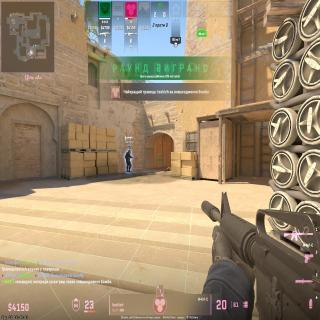CT-Body: (125, 149, 133, 173)
CT-Head: (128, 150, 131, 153)
